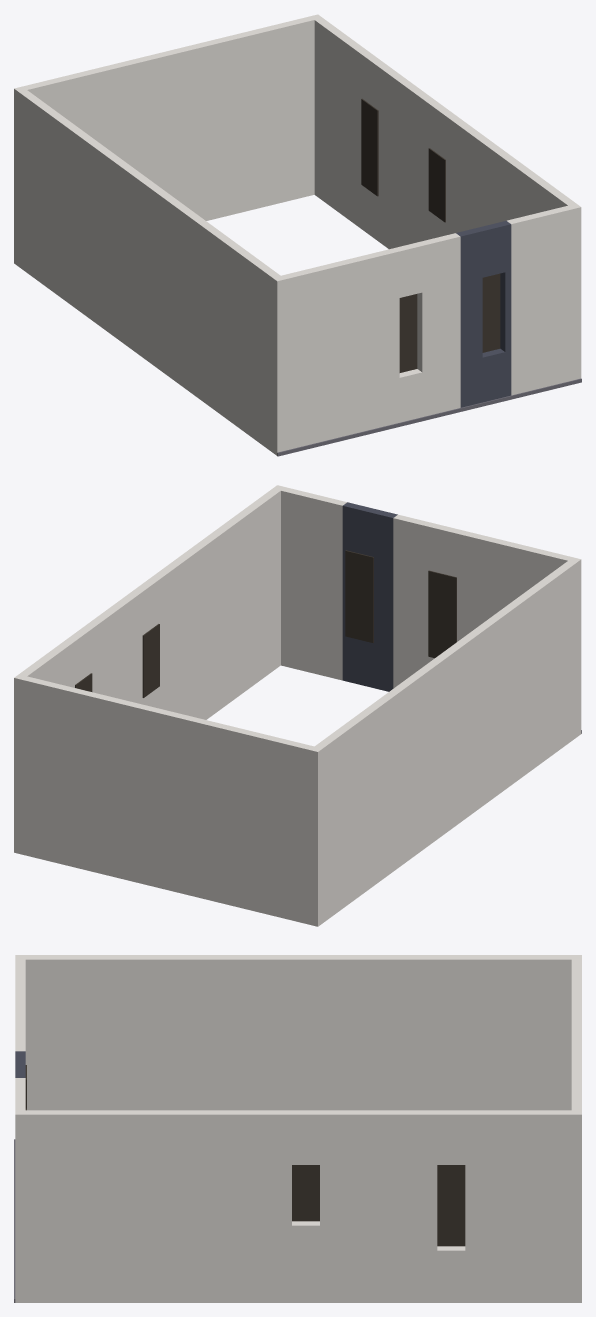
The model's file is SM_Floor_NarrowUpperScatterLowEndR_White_546_01.gltf.
3 views of the same model, one above another, from view 1: azimuth 30°, elevation 25°; view 2: azimuth 150°, elevation 25°; view 3: azimuth 270°, elevation 25° (orthographic). The views are drawn at different scales.
Parts seen in each view (by area): view 1: SM_Floor_NarrowUpperScatterLowEndR_White_546_01; view 2: SM_Floor_NarrowUpperScatterLowEndR_White_546_01; view 3: SM_Floor_NarrowUpperScatterLowEndR_White_546_01.
Part boxes in pixels (bbox=[...]): SM_Floor_NarrowUpperScatterLowEndR_White_546_01: bbox=[14, 14, 581, 456]; SM_Floor_NarrowUpperScatterLowEndR_White_546_01: bbox=[14, 485, 581, 926]; SM_Floor_NarrowUpperScatterLowEndR_White_546_01: bbox=[14, 955, 581, 1302].
Size of the model in its own units: 5.46 by 3 by 8.21.
1 material, 1 textured.
